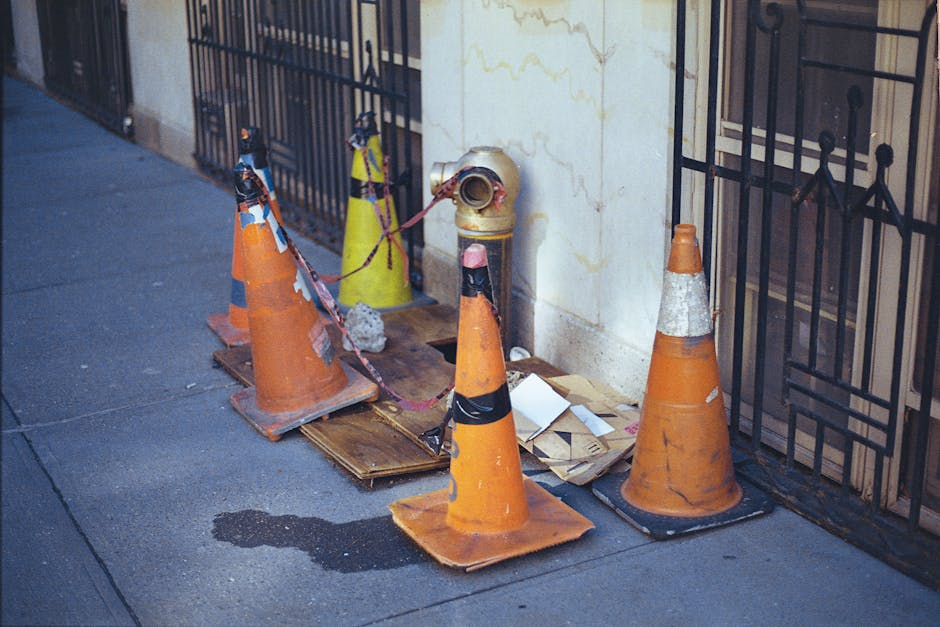traffic_cone: (387, 242, 596, 573), (591, 222, 774, 540), (227, 127, 379, 441), (206, 126, 332, 349), (335, 110, 437, 315), (206, 207, 252, 348)
